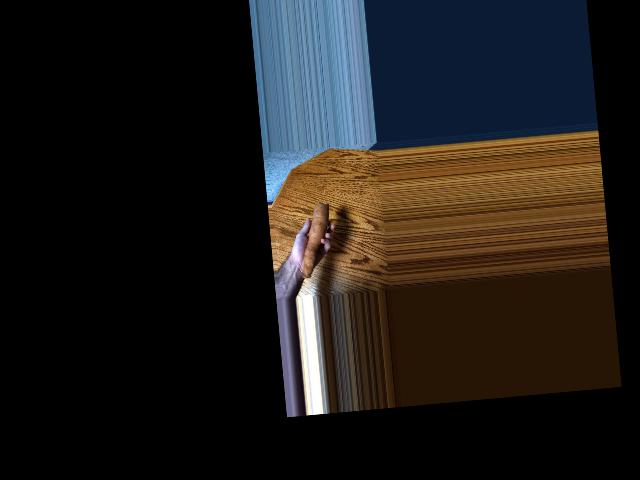sweet_potato: (294, 202, 337, 277)
